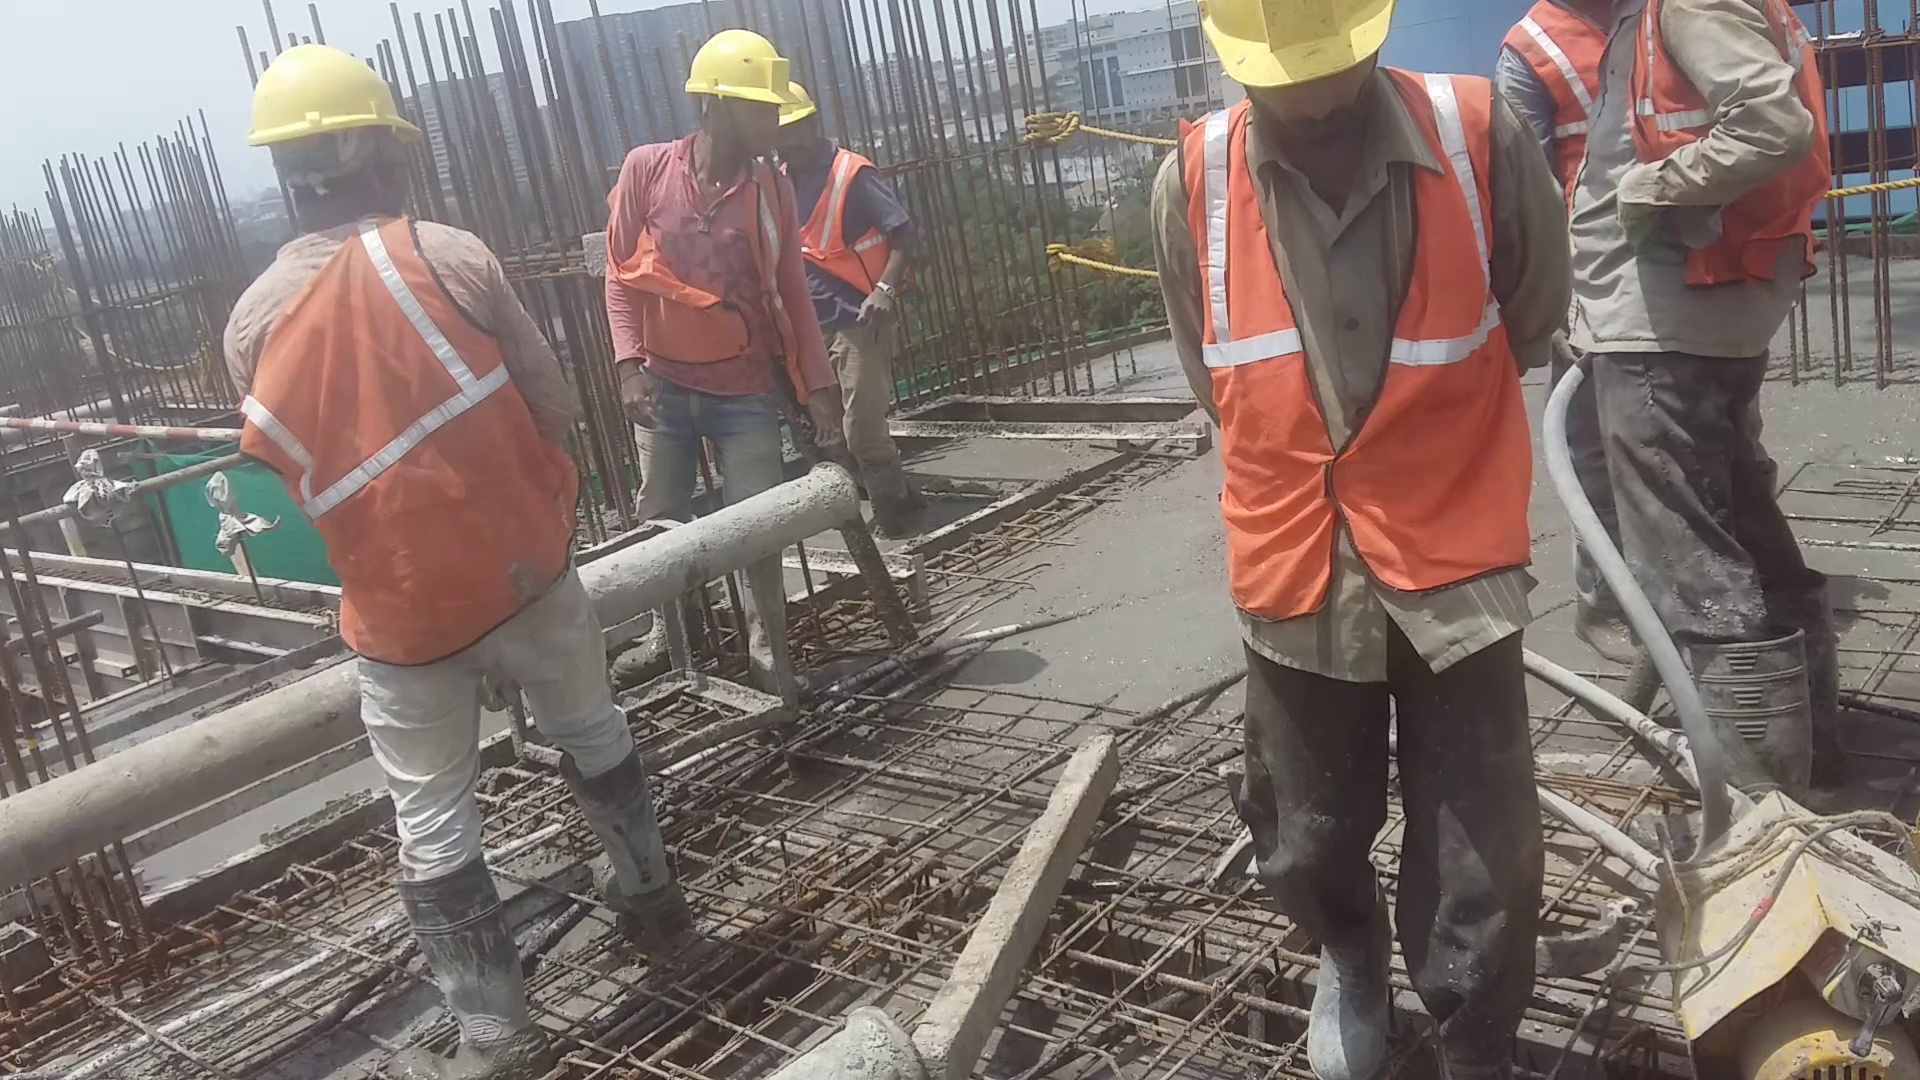SAFE: (1153, 1, 1557, 649), (212, 33, 593, 669), (612, 21, 825, 409)
